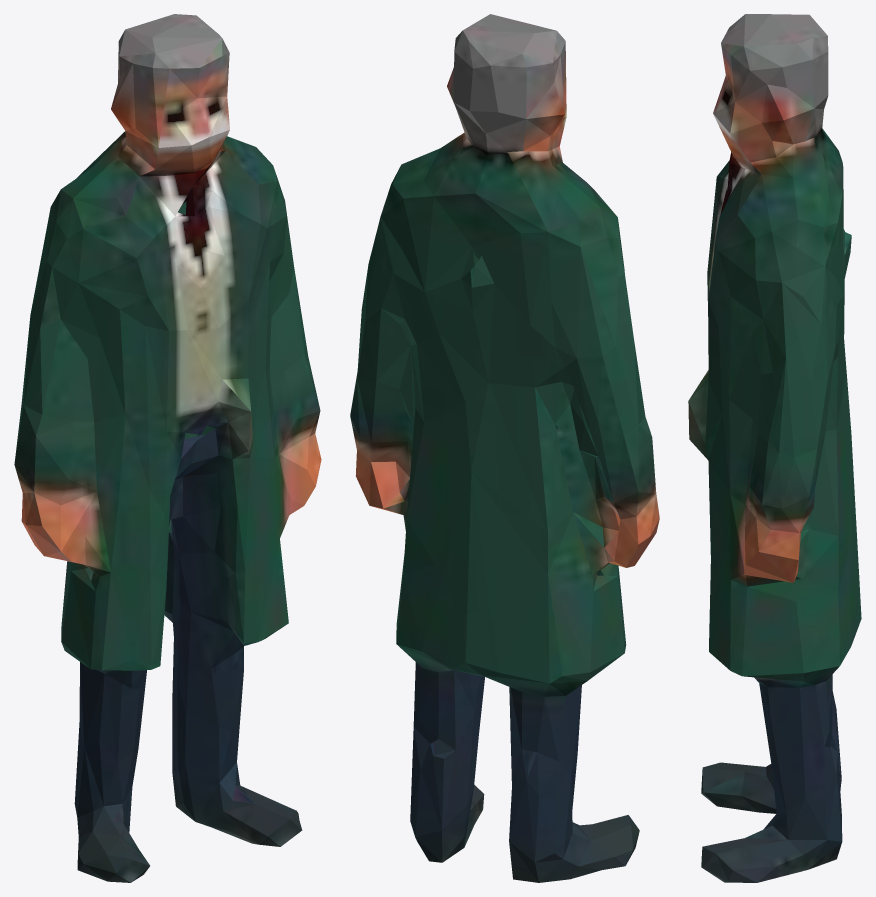
The model's file is habitant-loin.glb.
3 renders of one model, left to right at view 1: azimuth 30°, elevation 25°; view 2: azimuth 150°, elevation 25°; view 3: azimuth 270°, elevation 25°, orthographic.
Visible parts, largest first — view 1: habitant; view 2: habitant; view 3: habitant.
Boxes of the visible parts, x1,y1,x2,y2 form: habitant: [14, 14, 321, 882]; habitant: [350, 14, 659, 882]; habitant: [688, 14, 861, 882].
Size of the model in its own units: 0.3755 by 1.01 by 0.1946.
Materials: 1 (1 with a texture image).
